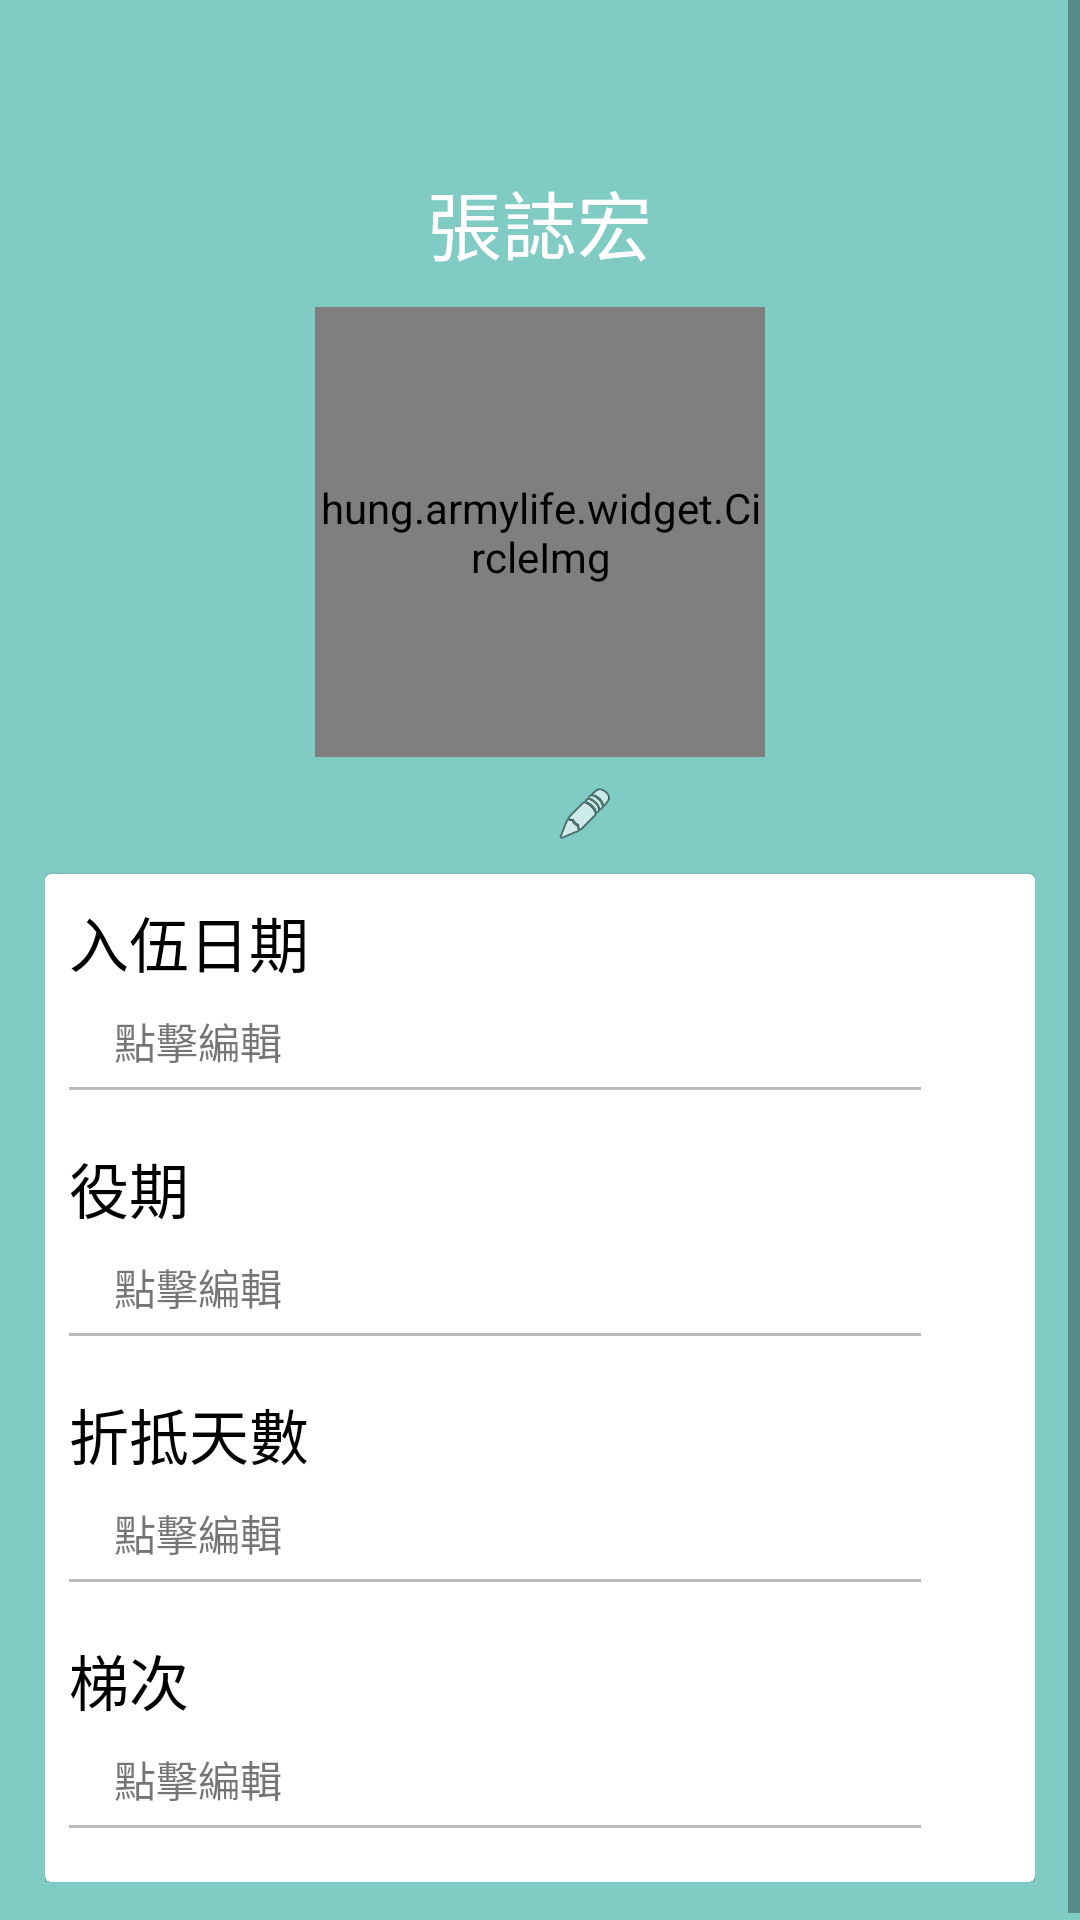

Named icons in this screenshot (1080x1920) and their centers, point (x, y):
edit: point (584, 813)
